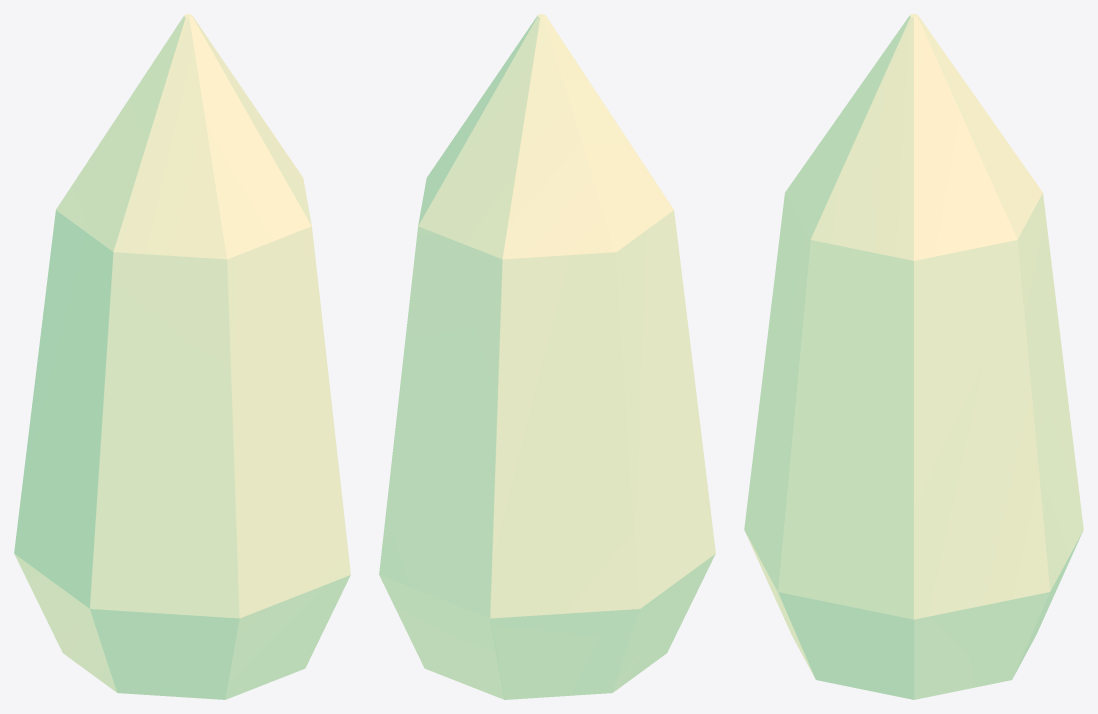
Rendered from SM_RV_Crystal.fbx.
The picture shows the model from 3 angles, left to right: view 1: azimuth 30°, elevation 25°; view 2: azimuth 150°, elevation 25°; view 3: azimuth 270°, elevation 25°; orthographic projection.
Parts seen in each view (by area): view 1: SM_RV_Crystal; view 2: SM_RV_Crystal; view 3: SM_RV_Crystal.
Part boxes in pixels (box(x1,y1,x2,y2)): SM_RV_Crystal: box(14, 14, 350, 699); SM_RV_Crystal: box(379, 14, 715, 699); SM_RV_Crystal: box(744, 14, 1083, 699).
Bounding box in the file's own units: 25.34 × 24.71 × 52.
